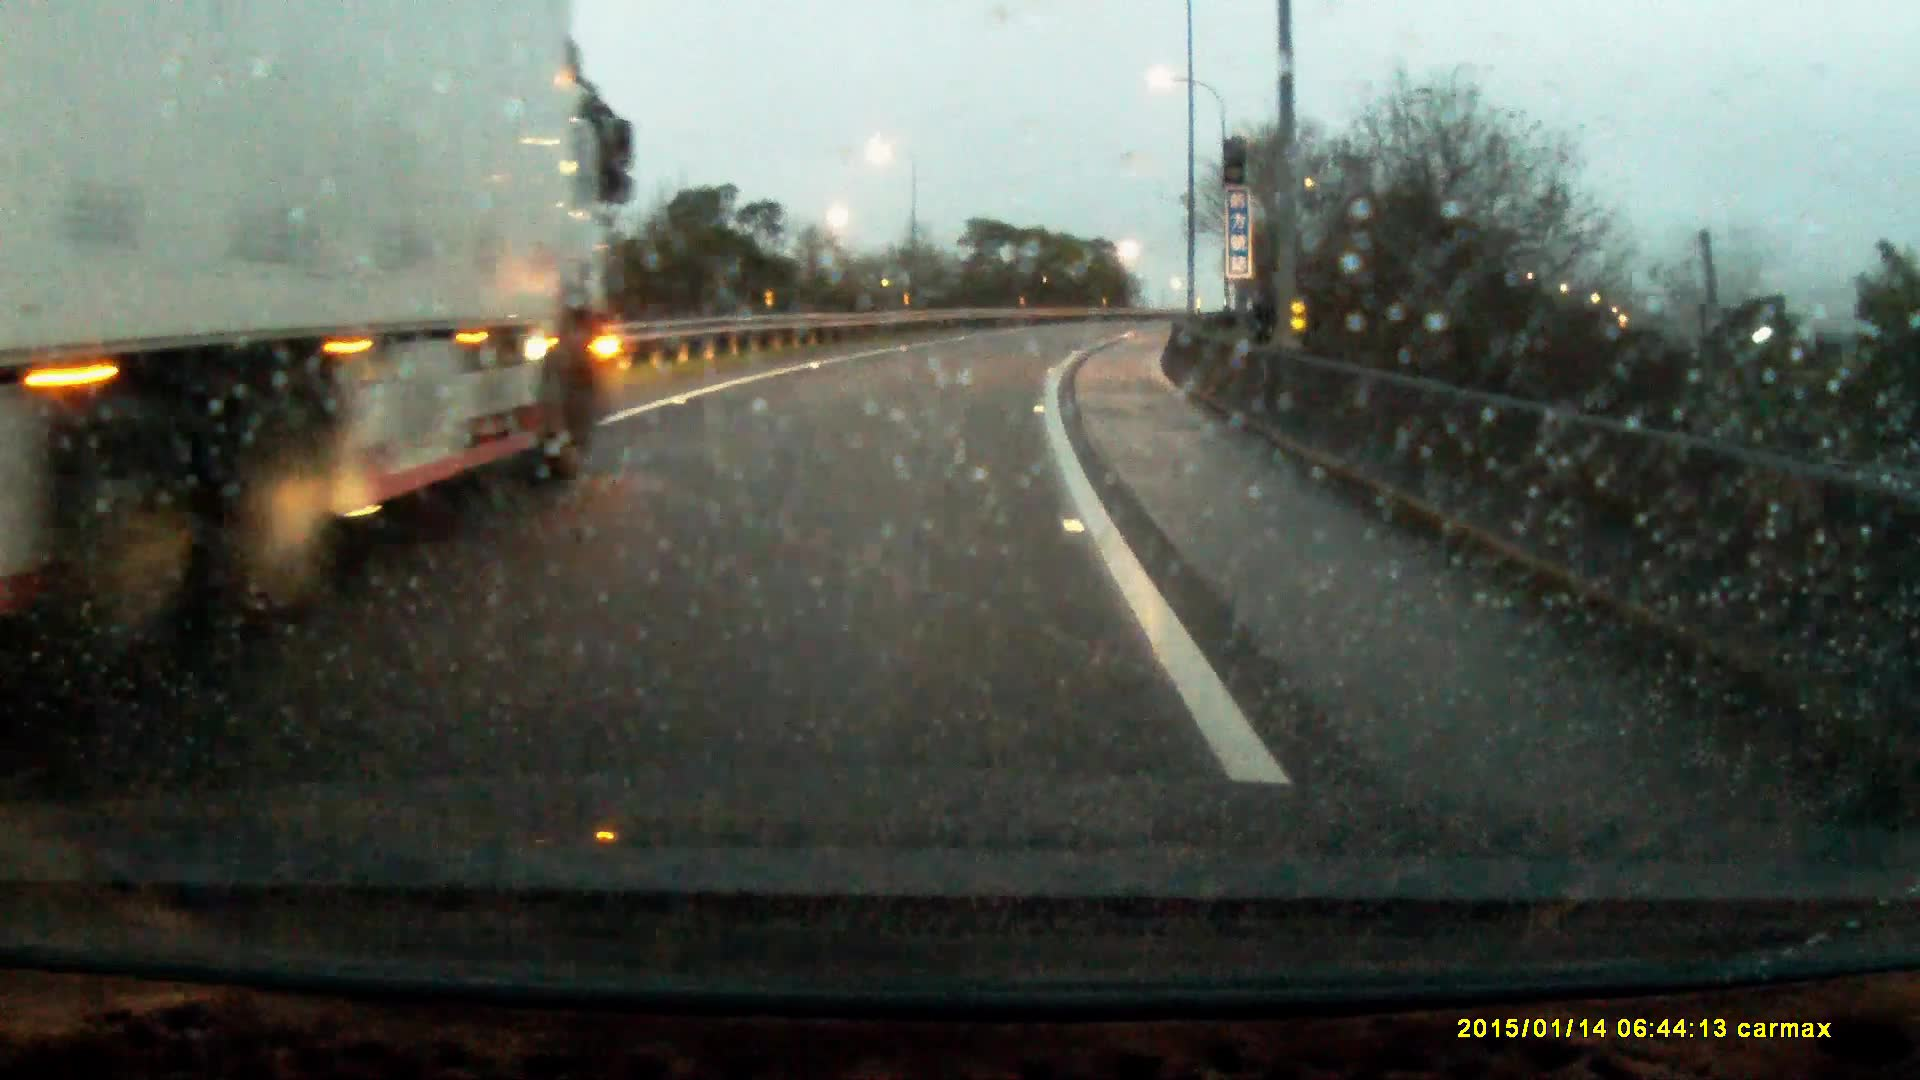vehicle: (1, 1, 638, 636)
